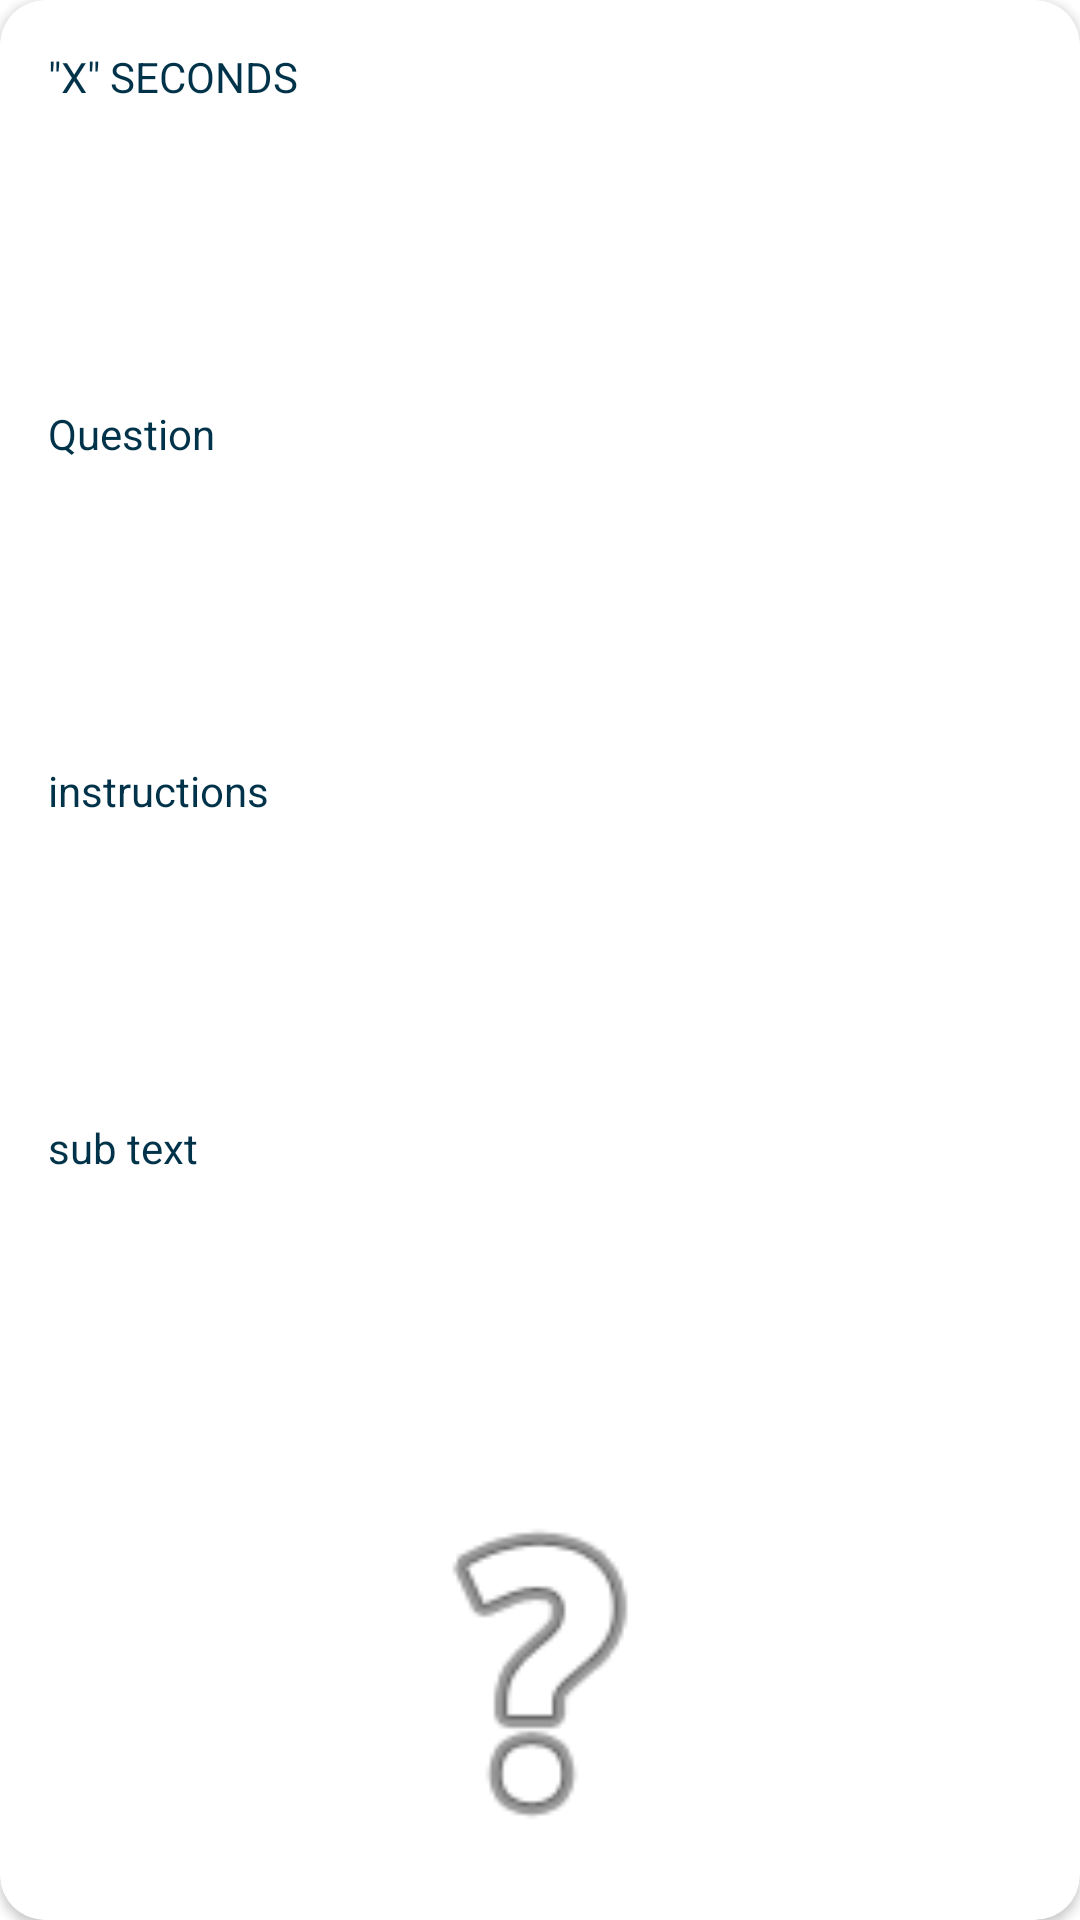

Where to tap for icons on this 1080 x 1920 app screen, as [x,y]:
help: [540,1674]
